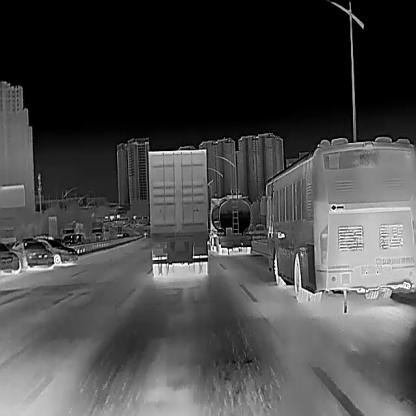bus: (260, 136, 416, 312)
car: (10, 237, 54, 269), (32, 235, 78, 265), (0, 242, 20, 273), (62, 236, 78, 244)
truck: (147, 148, 207, 275), (208, 189, 252, 255), (59, 220, 85, 242), (91, 220, 104, 241)
